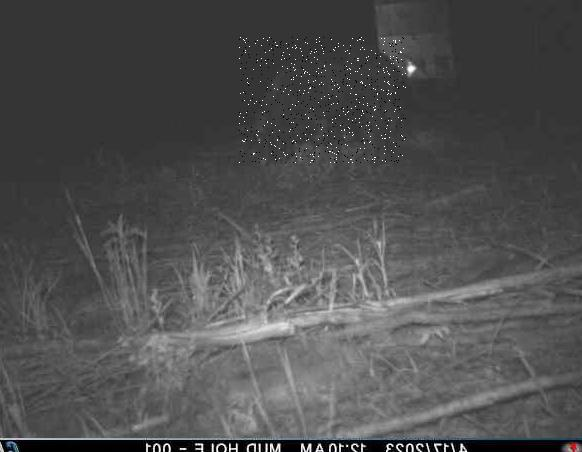Hog: (239, 38, 406, 164)
